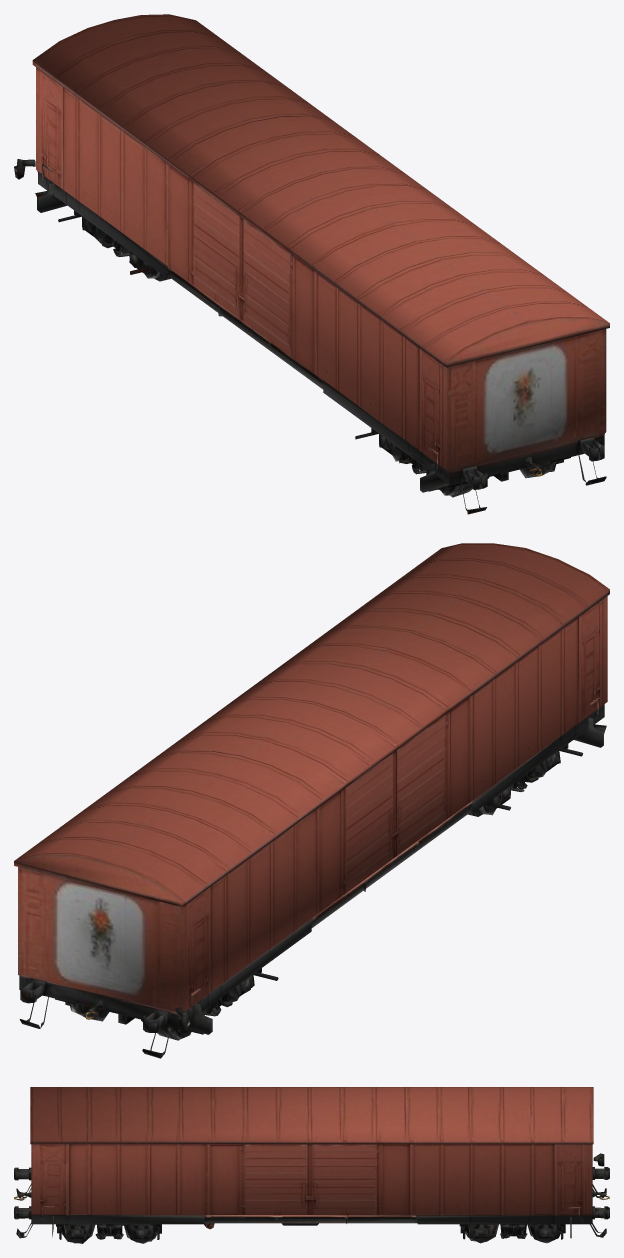
File: boxcar.glb
The picture shows the model from 3 angles, top to bottom: view 1: azimuth 30°, elevation 25°; view 2: azimuth 150°, elevation 25°; view 3: azimuth 270°, elevation 25°; orthographic projection. The views are drawn at different scales.
Parts seen in each view (by area): view 1: tripo_node_bca6c355_0; view 2: tripo_node_bca6c355_0; view 3: tripo_node_bca6c355_0.
Boxes of the visible parts, bbox=[...] form: tripo_node_bca6c355_0: bbox=[14, 14, 609, 514]; tripo_node_bca6c355_0: bbox=[14, 543, 609, 1058]; tripo_node_bca6c355_0: bbox=[14, 1087, 609, 1243].
Bounding box in the file's own units: 0.2446 × 0.2368 × 1.
Materials: 1 (1 with a texture image).
